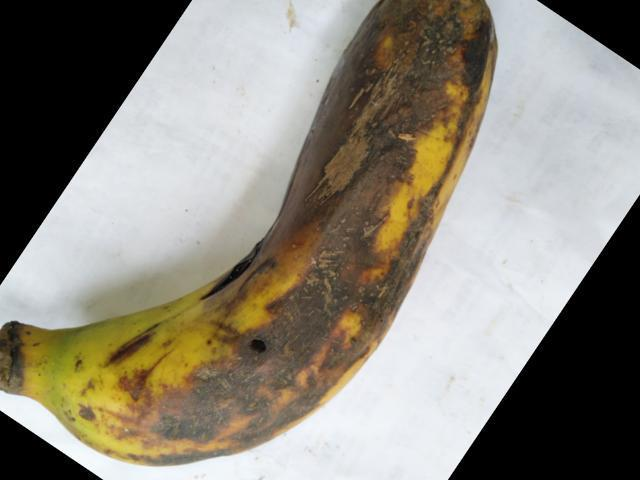rotten: (97, 0, 505, 454)
